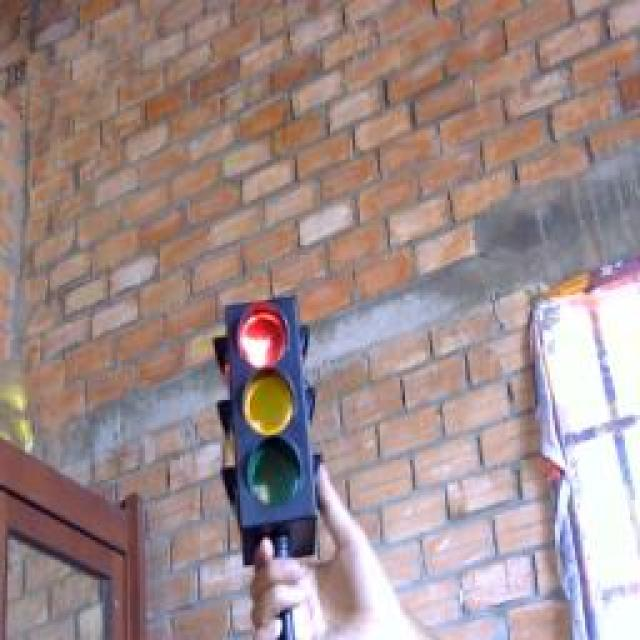-: (227, 296, 297, 371)
